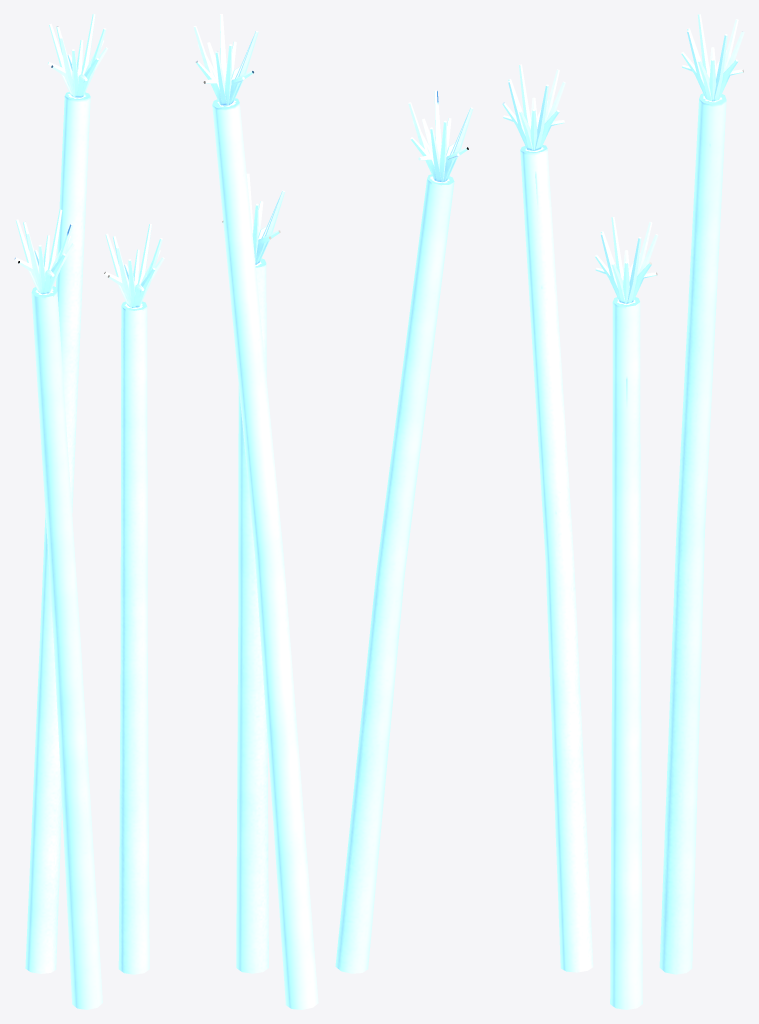
Rendered from lamellibrachia_luymesi.glb.
The picture shows the model from 3 angles, left to right: view 1: azimuth 30°, elevation 25°; view 2: azimuth 150°, elevation 25°; view 3: azimuth 270°, elevation 25°; orthographic projection. The views are drawn at different scales.
Parts seen in each view (by area): view 1: lamellibrachia_luymesi; view 2: lamellibrachia_luymesi; view 3: lamellibrachia_luymesi.
Boxes of the visible parts, bbox=[...] form: lamellibrachia_luymesi: bbox=[14, 14, 164, 1009]; lamellibrachia_luymesi: bbox=[193, 14, 473, 1009]; lamellibrachia_luymesi: bbox=[502, 14, 744, 1009].
Bounding box in the file's own units: 0.2522 × 1.19 × 0.2685.
Materials: 2 (2 with a texture image).
